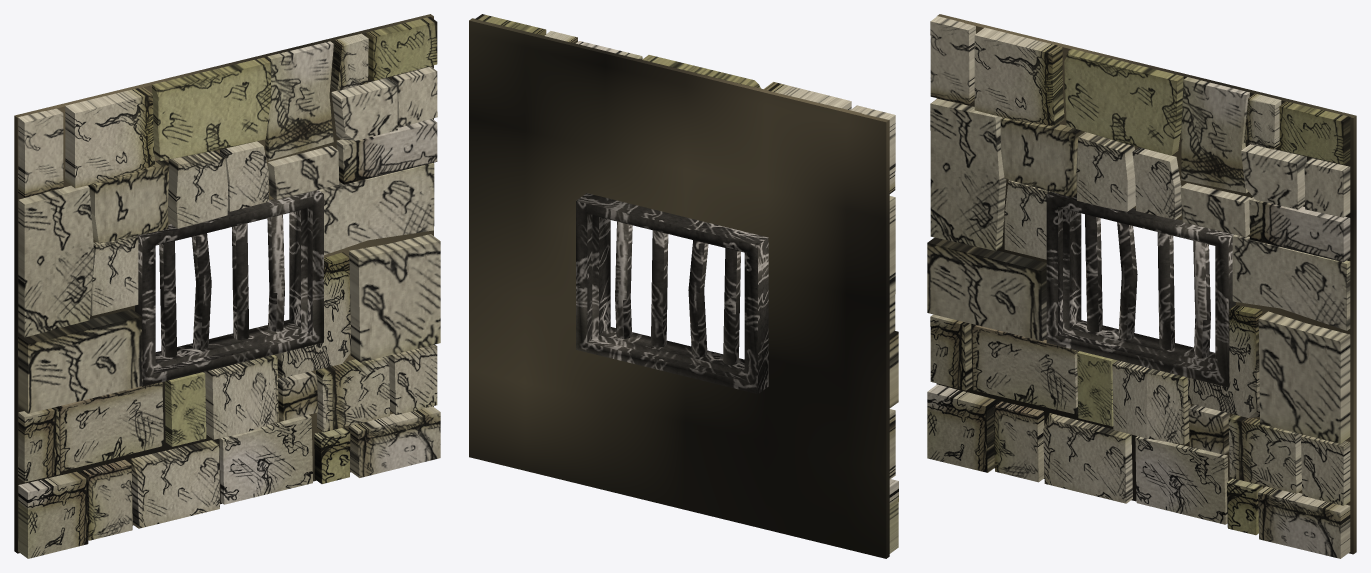
File: GrillWindow.glb
The picture shows the model from 3 angles, left to right: view 1: azimuth 30°, elevation 25°; view 2: azimuth 150°, elevation 25°; view 3: azimuth 330°, elevation 25°; orthographic projection.
Visible parts, largest first — view 1: Stone Wall.001; view 2: Stone Wall.001; view 3: Stone Wall.001.
Boxes of the visible parts, x1,y1,x2,y2 form: Stone Wall.001: [14, 14, 440, 558]; Stone Wall.001: [469, 14, 898, 558]; Stone Wall.001: [927, 14, 1356, 558].
Size of the model in its own units: 2 by 2.01 by 0.1991.
2 materials, 2 textured.
